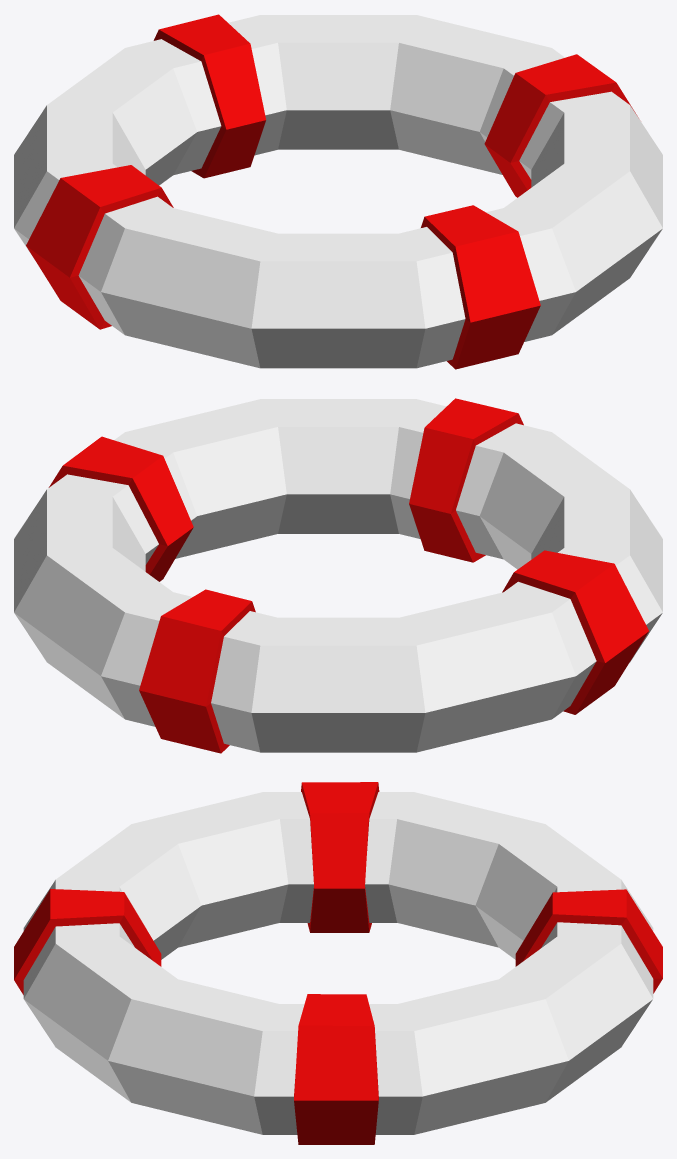
File: float.fbx
3 views of the same model, one above another, from view 1: azimuth 30°, elevation 25°; view 2: azimuth 150°, elevation 25°; view 3: azimuth 270°, elevation 25° (orthographic). The views are drawn at different scales.
Visible parts, largest first — view 1: Torus001; view 2: Torus001; view 3: Torus001.
Boxes of the visible parts, box(x1,y1,x2,y2) form: Torus001: box(14, 14, 662, 369); Torus001: box(14, 398, 662, 753); Torus001: box(14, 782, 662, 1144).
Size of the model in its own units: 137 by 28.01 by 137.
1 material, 1 textured.
